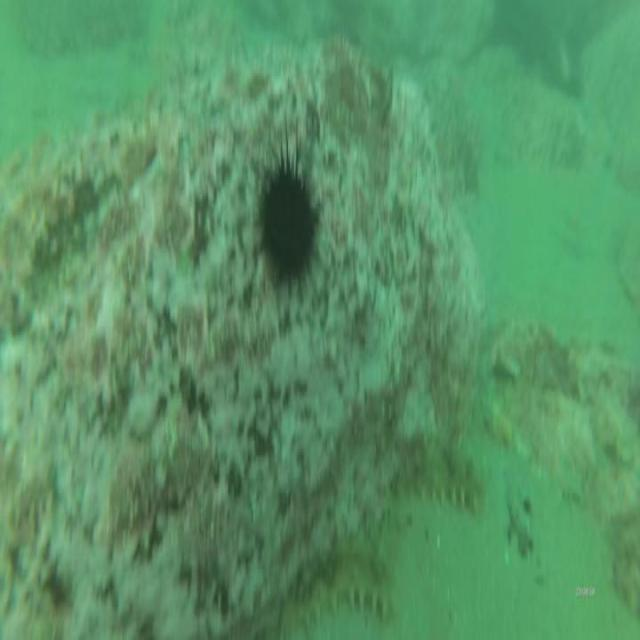echinus: (256, 154, 320, 296)
holothurian: (295, 536, 399, 629), (384, 430, 484, 520)
